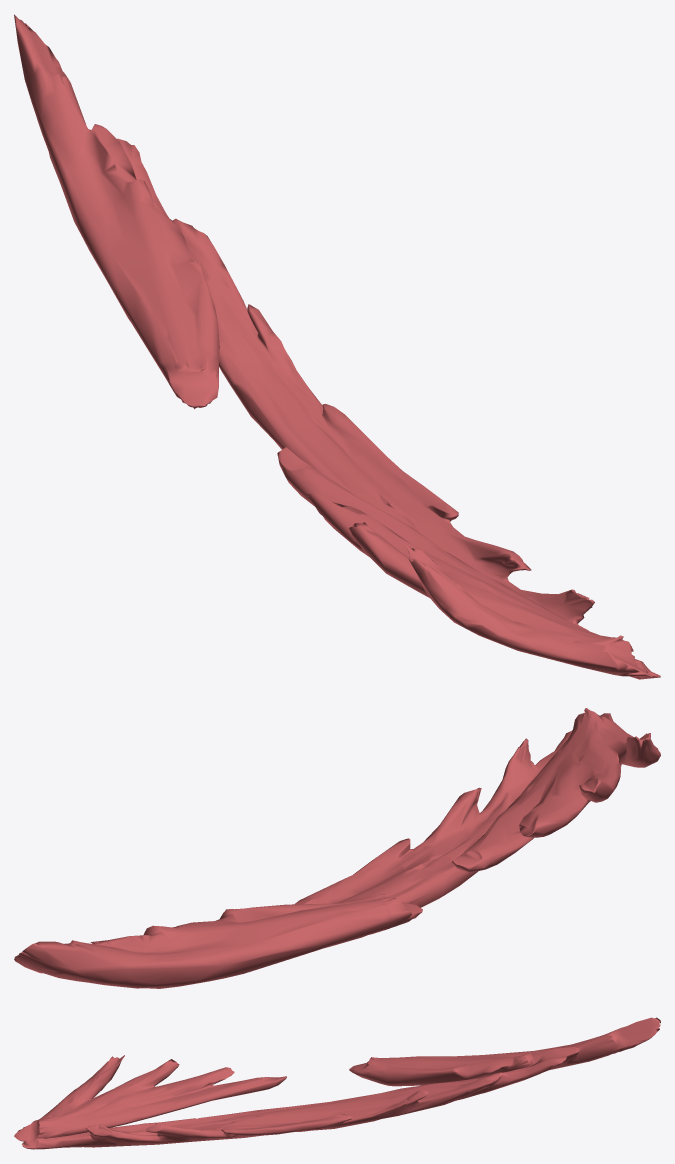
The picture shows the model from 3 angles, top to bottom: view 1: azimuth 30°, elevation 25°; view 2: azimuth 150°, elevation 25°; view 3: azimuth 270°, elevation 25°; orthographic projection. The views are drawn at different scales.
Parts seen in each view (by area): view 1: 右侧颈长肌; view 2: 右侧颈长肌; view 3: 右侧颈长肌.
Part boxes in pixels (<box>): 右侧颈长肌: <box>14,14,660,679</box>; 右侧颈长肌: <box>14,708,660,988</box>; 右侧颈长肌: <box>14,1017,660,1149</box>.
Bounding box in the file's own units: 0.0365 × 0.0503 × 0.2319.
